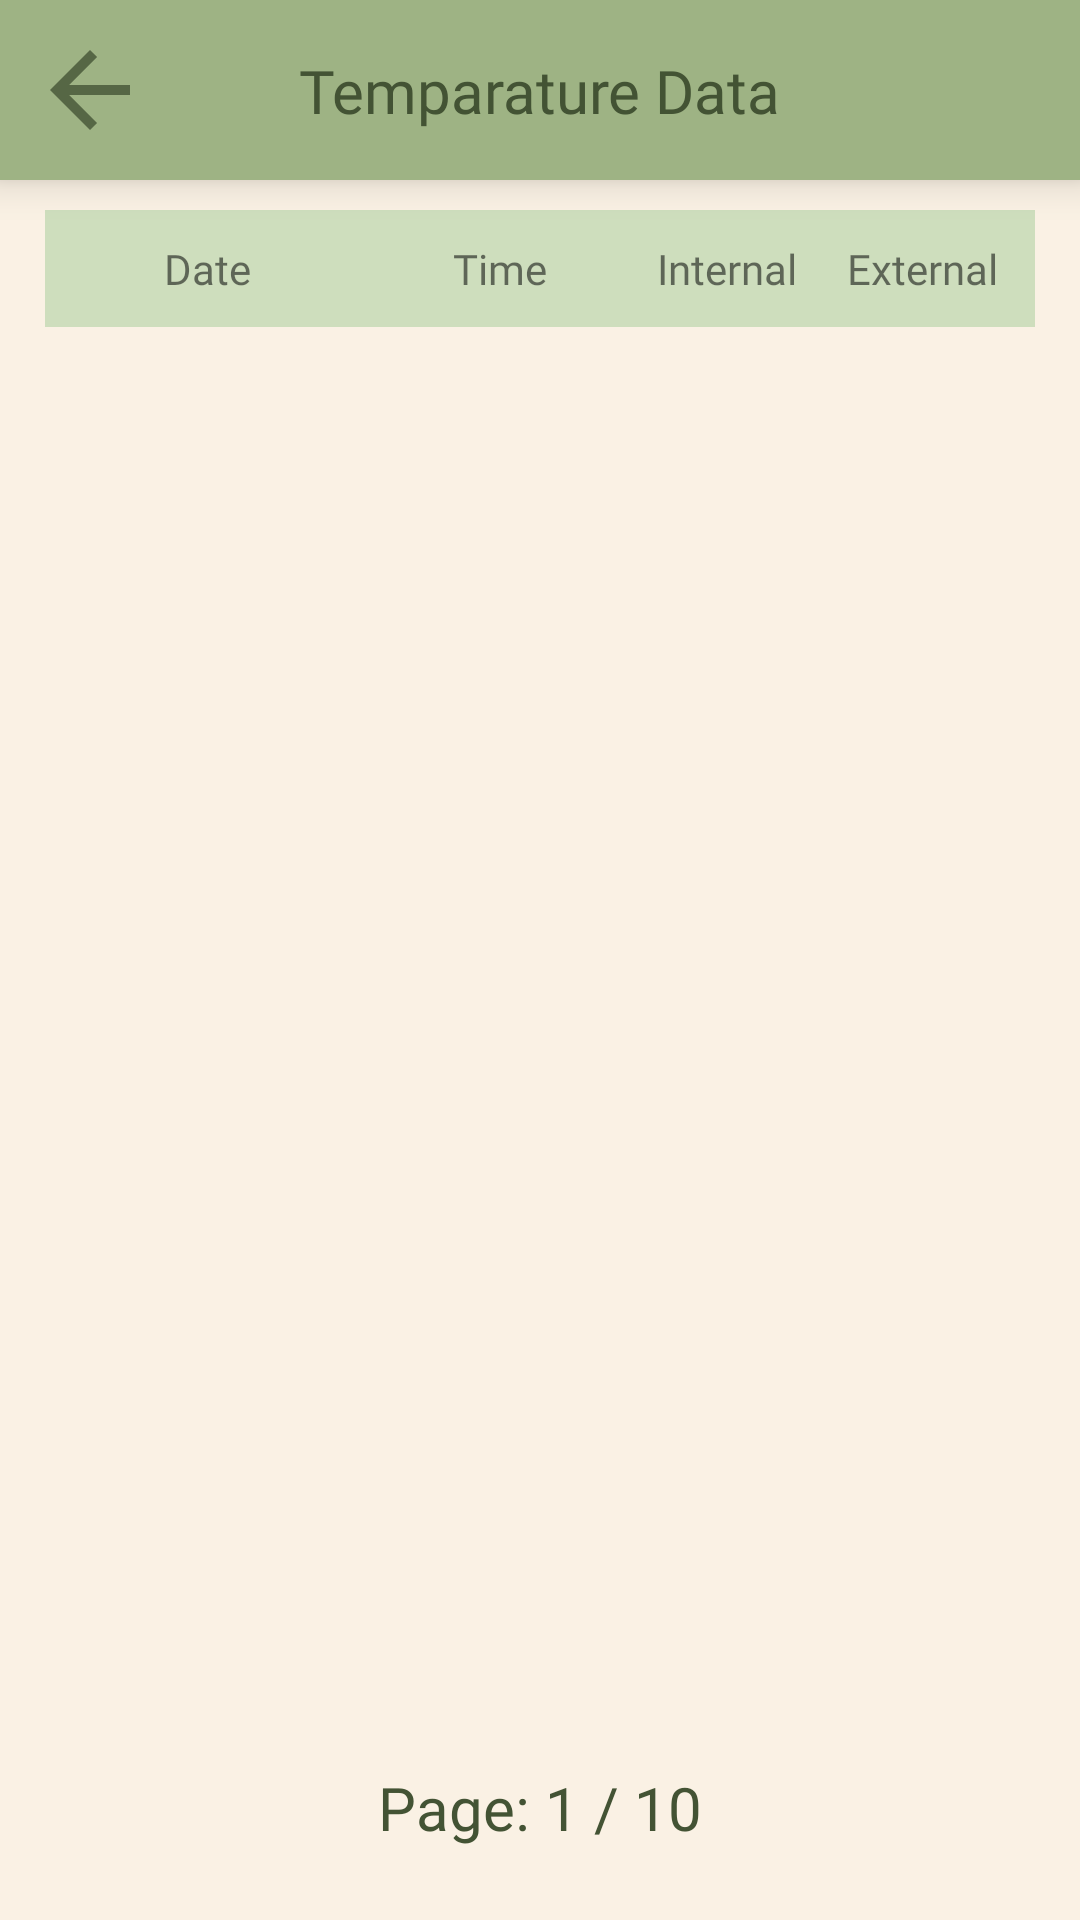

Where to tap for icons on this 1080 x 1920 app screen, as (x,y):
Back Button: (90,90)
